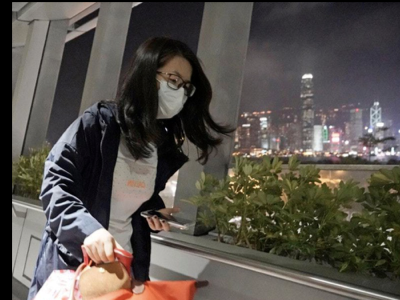with_mask: (156, 70, 192, 119)
